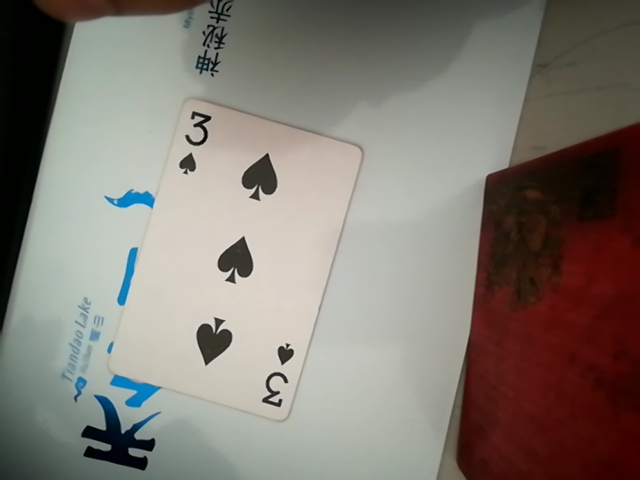ht 3: (117, 94, 357, 417)
